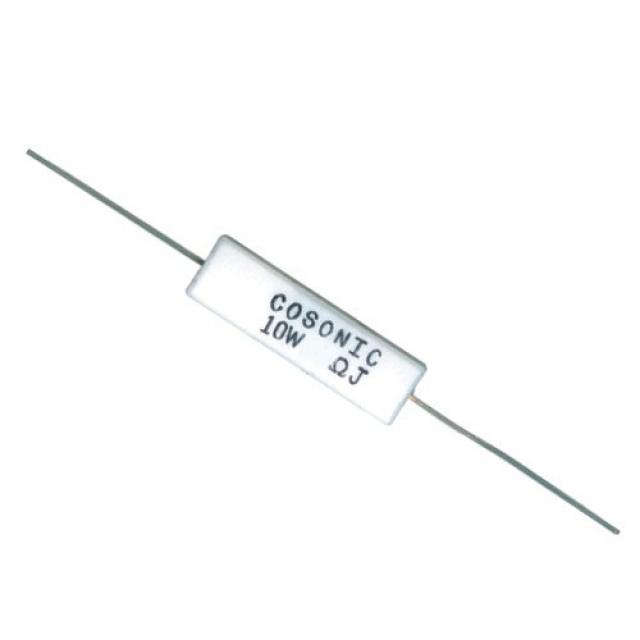Resistor: (189, 238, 423, 422)
